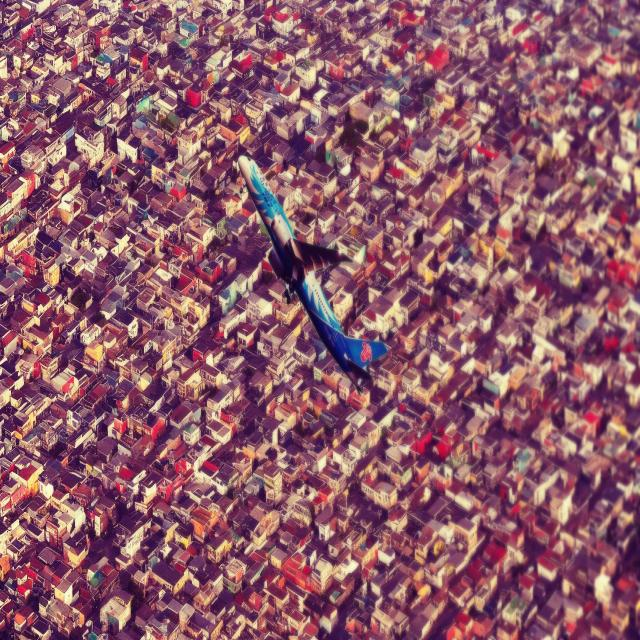airplane: (235, 154, 389, 396)
